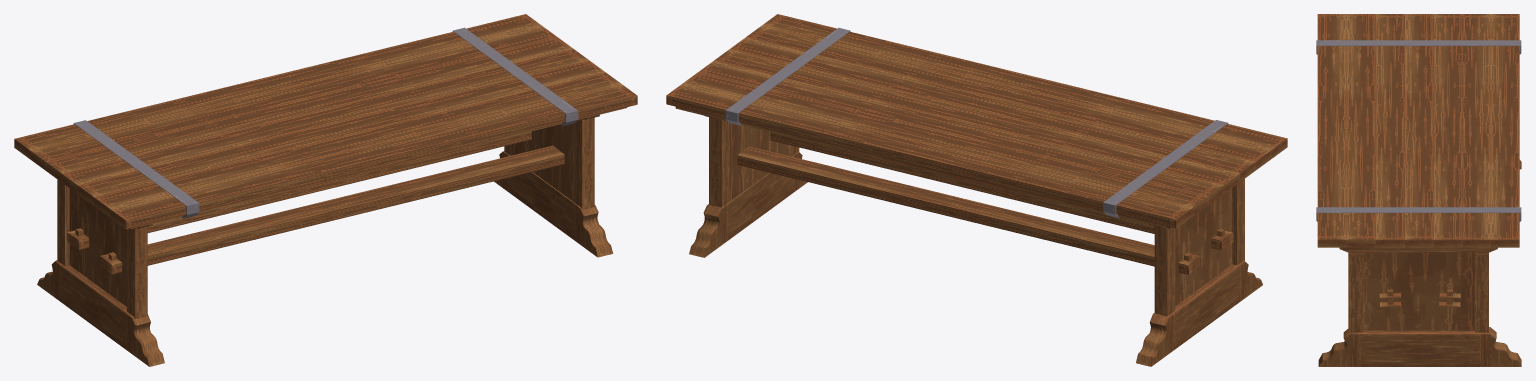
3 views of the same model, side by side, from view 1: azimuth 30°, elevation 25°; view 2: azimuth 150°, elevation 25°; view 3: azimuth 270°, elevation 25° (orthographic). The views are drawn at different scales.
Visible parts, largest first — view 1: f4b04e3619cf212187b96076e7e940da50275113f8897ecbcd59f5921342; view 2: f4b04e3619cf212187b96076e7e940da50275113f8897ecbcd59f5921342; view 3: f4b04e3619cf212187b96076e7e940da50275113f8897ecbcd59f5921342.
Part boxes in pixels (x1=…): f4b04e3619cf212187b96076e7e940da50275113f8897ecbcd59f5921342: x1=14, y1=14, x2=637, y2=366; f4b04e3619cf212187b96076e7e940da50275113f8897ecbcd59f5921342: x1=666, y1=14, x2=1287, y2=366; f4b04e3619cf212187b96076e7e940da50275113f8897ecbcd59f5921342: x1=1316, y1=14, x2=1521, y2=366.
Size of the model in its own units: 2.85 by 0.8134 by 1.1.
Materials: 2 (2 with a texture image).
